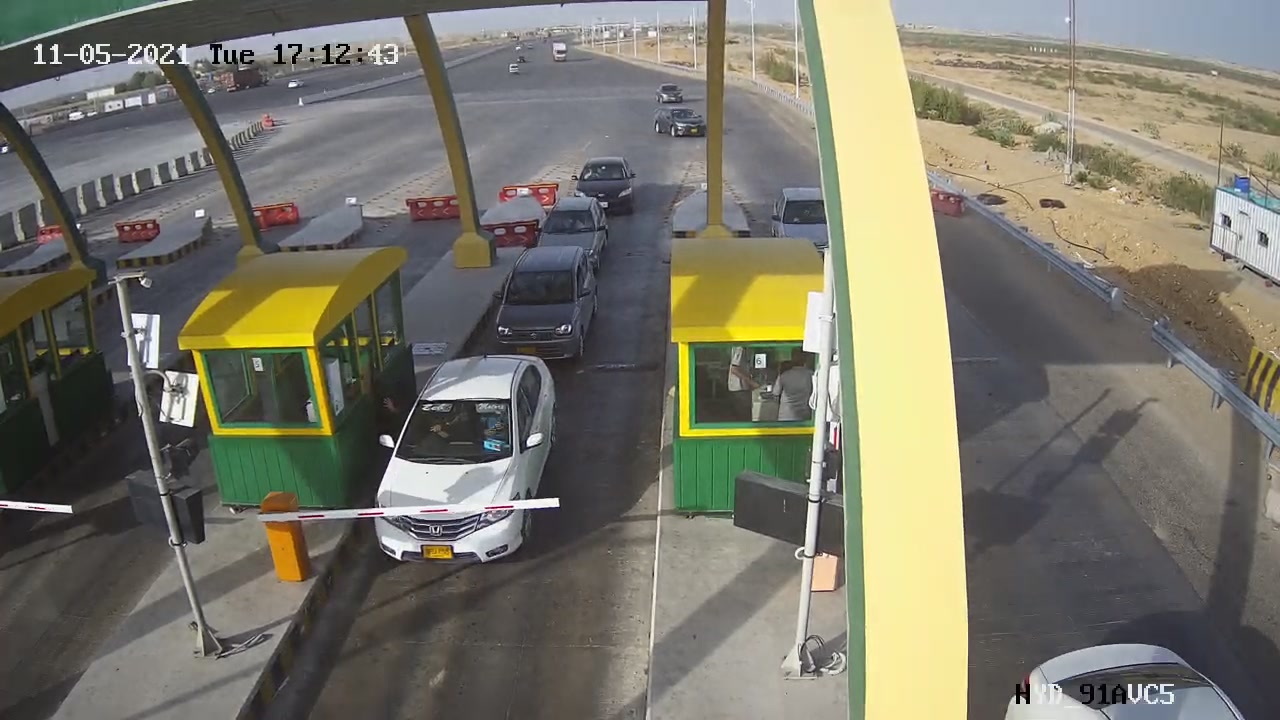F1: (356, 336, 576, 588), (486, 233, 612, 370)
